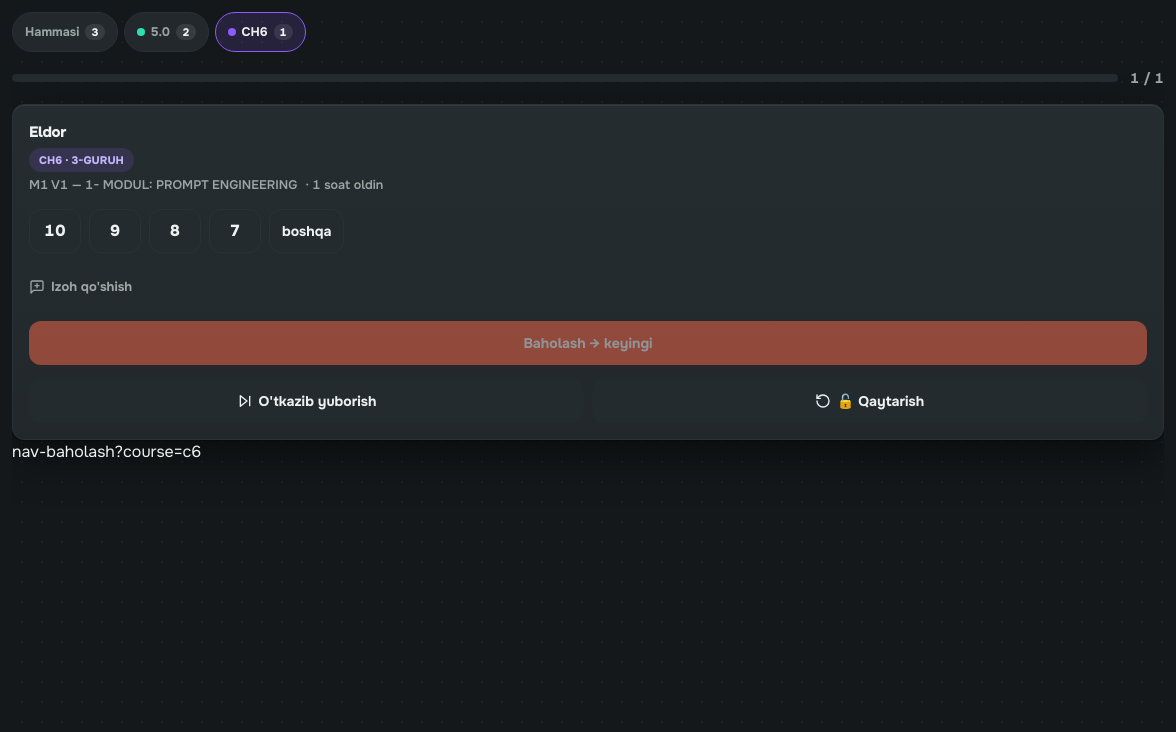
TeacherGrade: the inputs never move to another student › the bottom-nav tab changes the card (same route, no remount): the picked score is cleared
Expected: the text "Eldor" is shown, [29, 122, 66, 142]
Click the button "9": (115, 231) [89, 209, 141, 253]
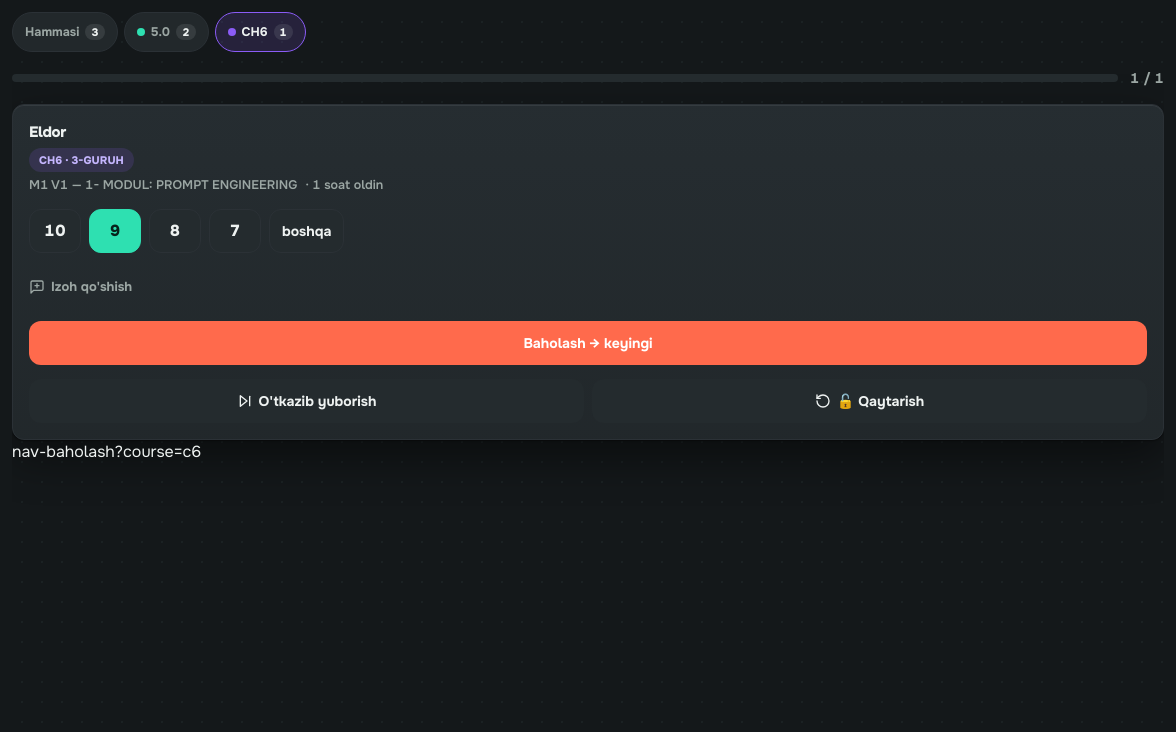
Click the link "nav-baholash": (63, 451) [12, 441, 115, 462]
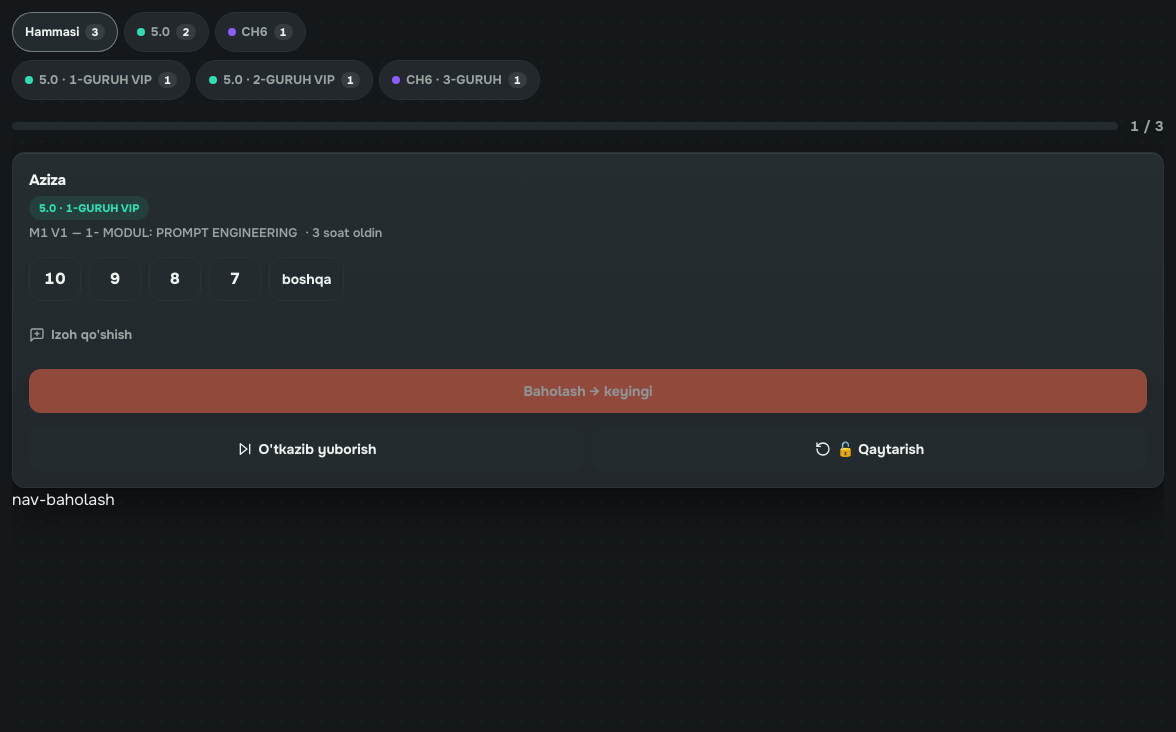
Expected: the text "Aziza" is shown, [29, 170, 66, 190]
Expected: the button "Baholash → keyingi" is disabled, [29, 369, 1147, 413]
